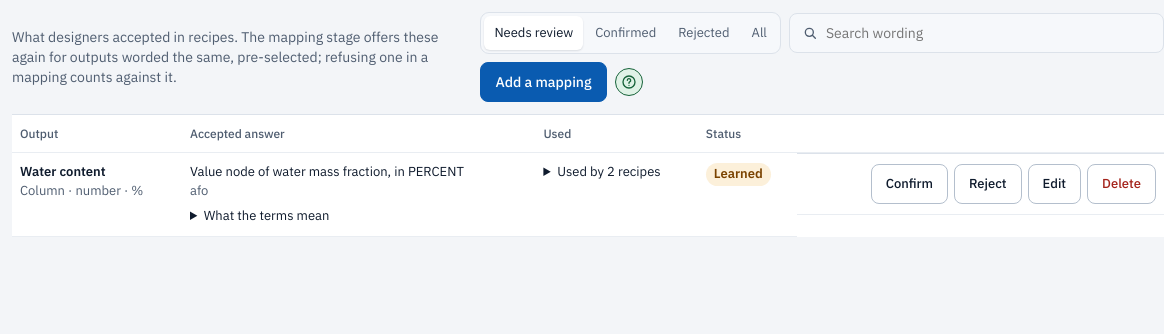
RememberedMappings › says what the answer terms mean
This screenshot has width=1164, height=334.
Step 1. Click the heading "What the terms mean" → [267, 216], box left=204, top=207, right=329, bottom=224
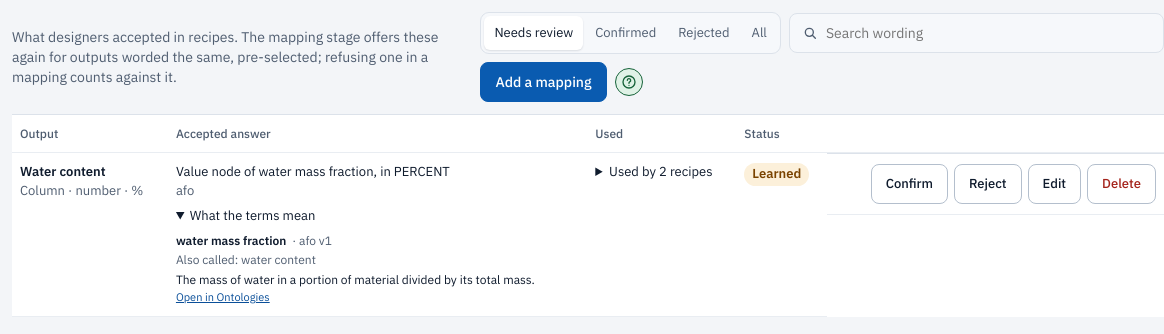
Check: the text "The mass of water in a portion of material divided by its total mass." is shown, box left=176, top=271, right=579, bottom=288
Check: the text "Also called: water content" is shown, box left=176, top=252, right=316, bottom=267
